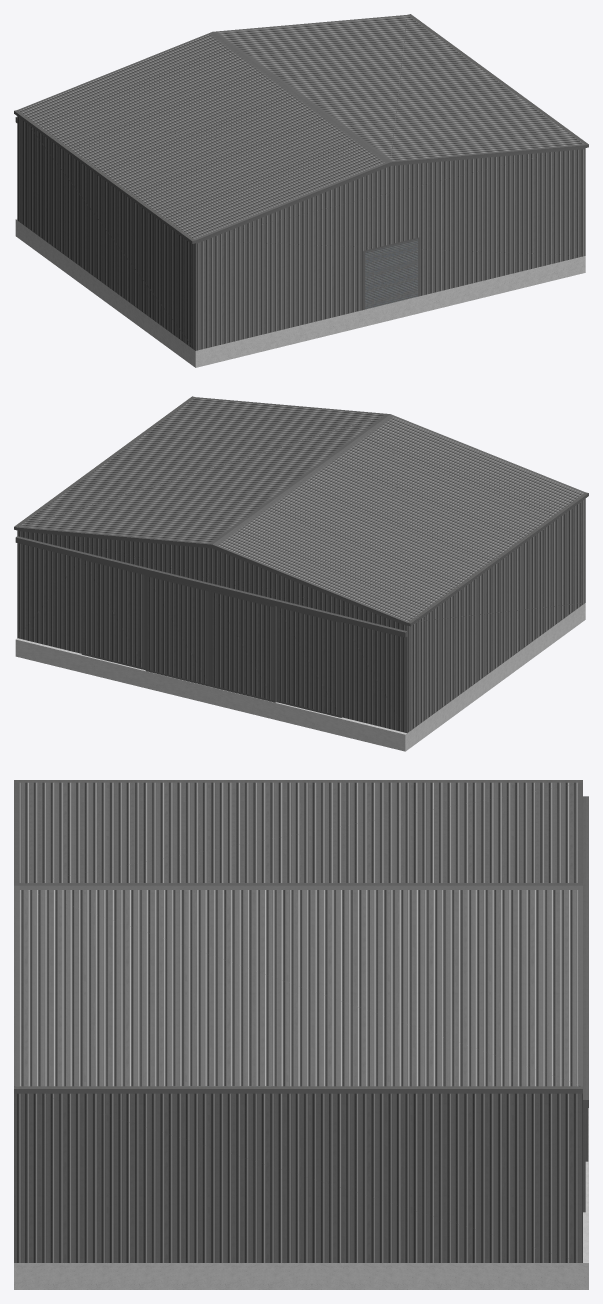
The model's file is hangar-24x19x7grey-cbj_LOD00.gltf.
3 renders of one model, top to bottom at view 1: azimuth 30°, elevation 25°; view 2: azimuth 150°, elevation 25°; view 3: azimuth 270°, elevation 25°, orthographic. The views are drawn at different scales.
Visible parts, largest first — view 1: hanger00; view 2: hanger00; view 3: hanger00.
Boxes of the visible parts, x1=… form: hanger00: x1=14, y1=14, x2=588, y2=367; hanger00: x1=14, y1=396, x2=588, y2=751; hanger00: x1=14, y1=780, x2=588, y2=1289.
Bounding box in the file's own units: 24.42 × 9.3 × 19.2.
